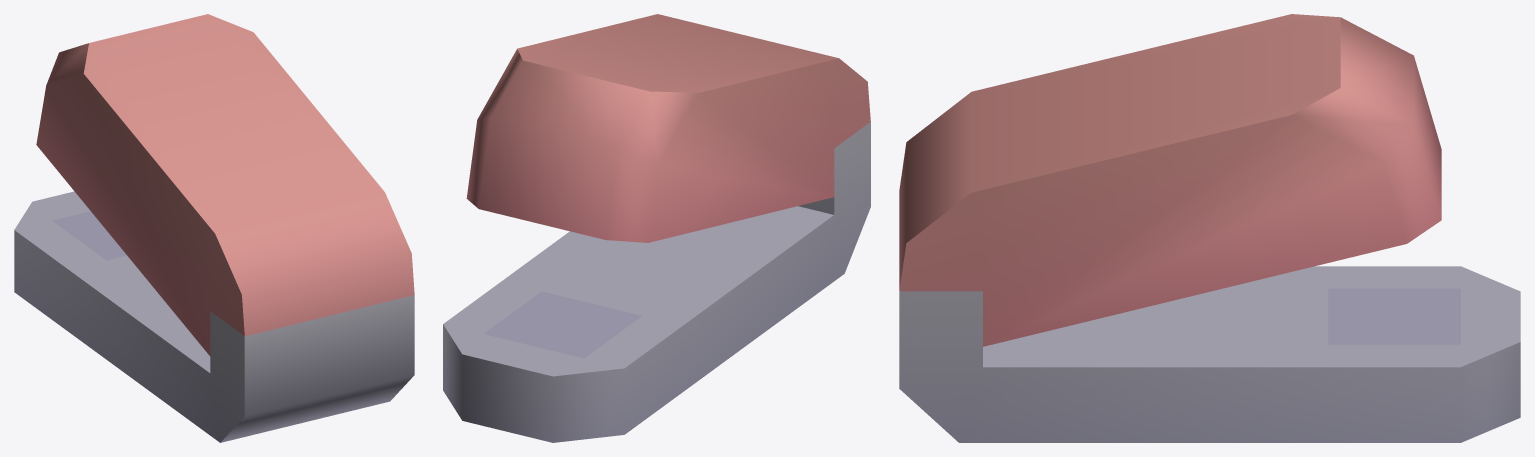
File: office-stapler.glb
The picture shows the model from 3 angles, left to right: view 1: azimuth 30°, elevation 25°; view 2: azimuth 150°, elevation 25°; view 3: azimuth 270°, elevation 25°; orthographic projection. The views are drawn at different scales.
Visible parts, largest first — view 1: office-stapler; view 2: office-stapler; view 3: office-stapler.
Boxes of the visible parts, x1=… form: office-stapler: x1=14, y1=14, x2=414, y2=442; office-stapler: x1=443, y1=14, x2=870, y2=442; office-stapler: x1=899, y1=14, x2=1520, y2=442.
Size of the model in its own units: 0.1 by 0.157 by 0.26.
